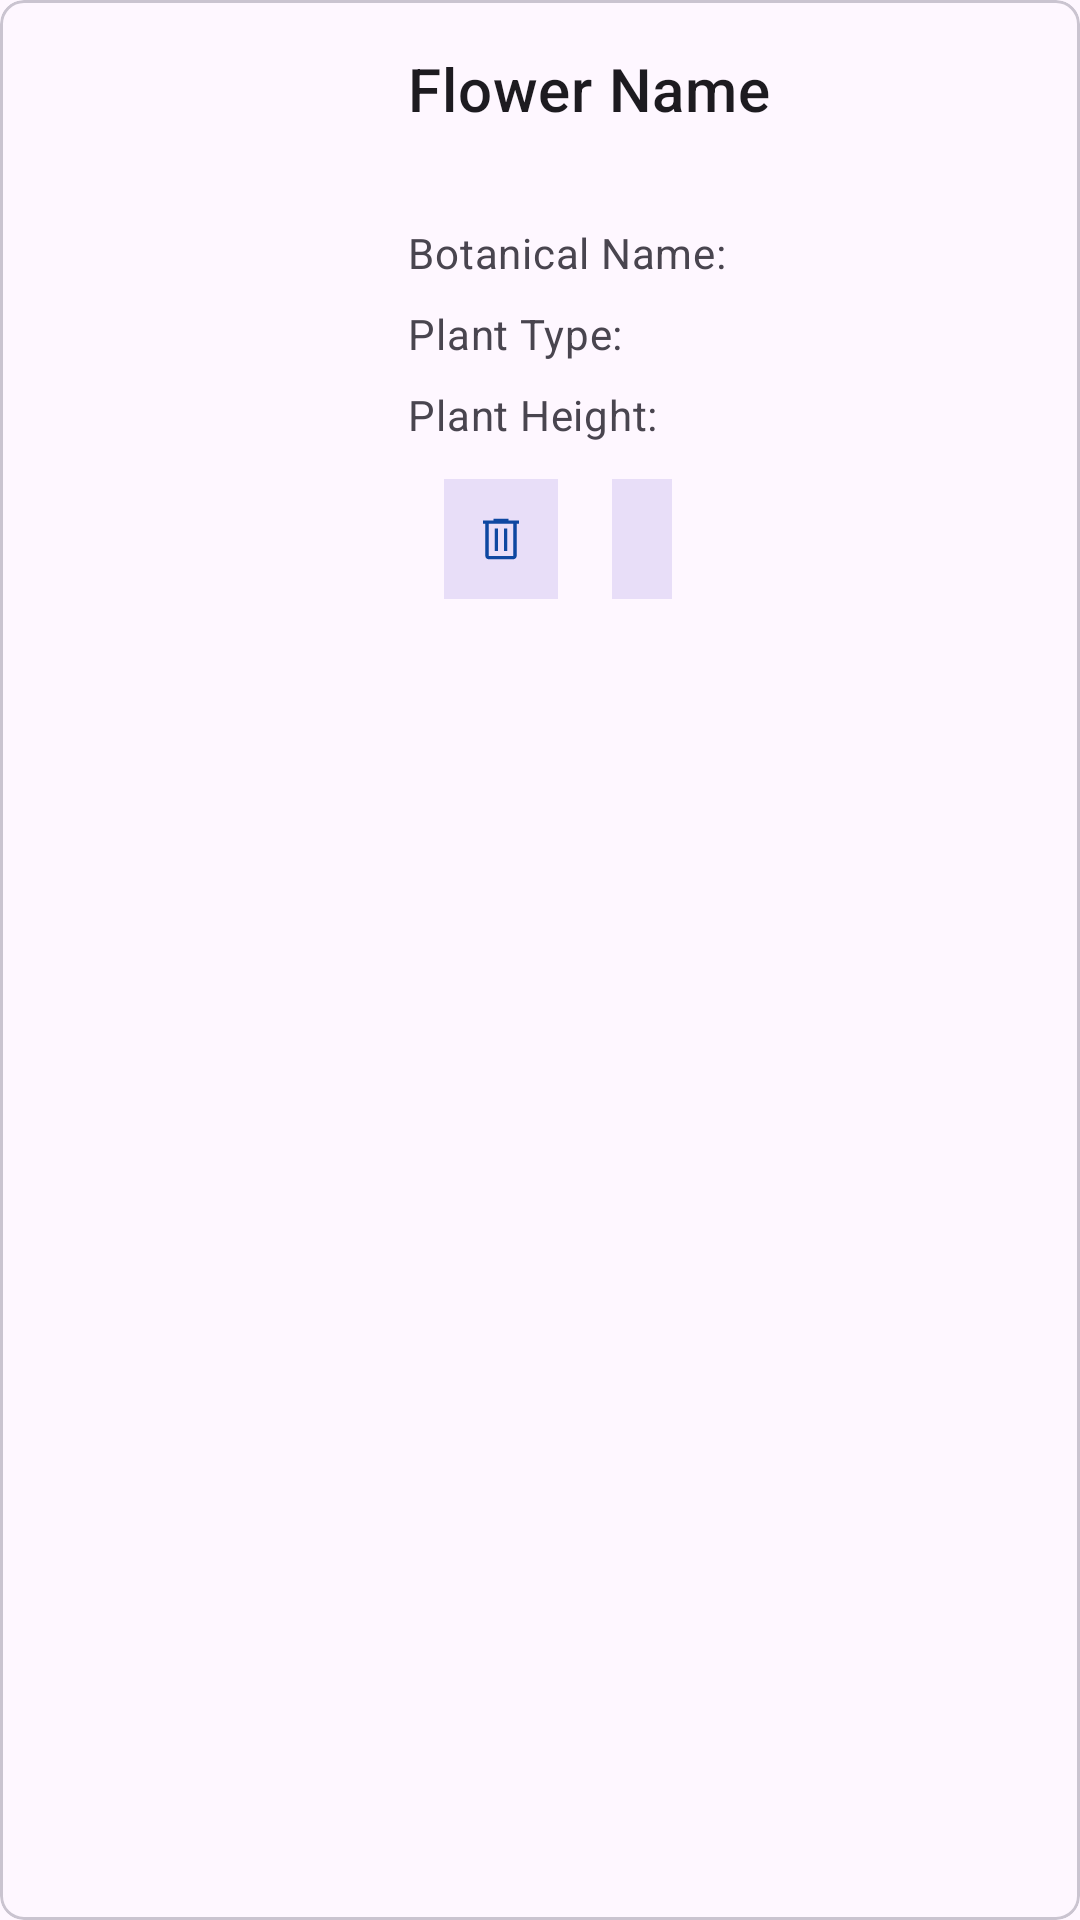

Named icons in this screenshot (1080 x 1920) and their centers, (x=x, y=y):
Delete Flower: (x=501, y=539)
